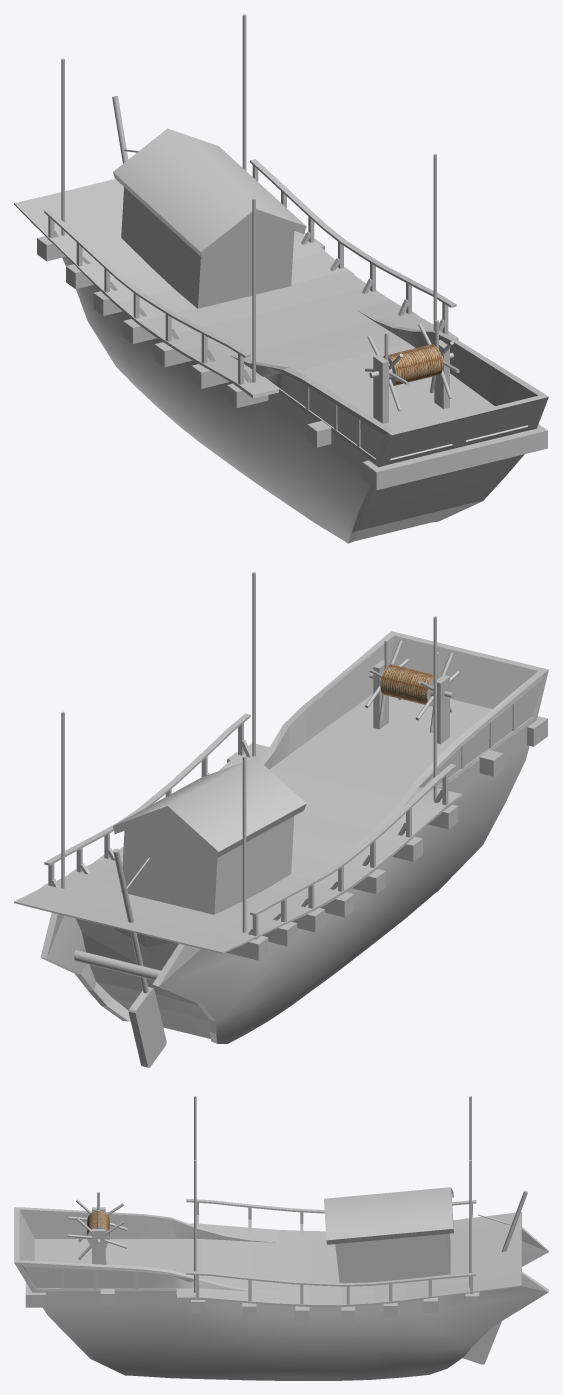
The model's file is 중등백제 무역선.FBX.
3 views of the same model, one above another, from view 1: azimuth 30°, elevation 25°; view 2: azimuth 150°, elevation 25°; view 3: azimuth 270°, elevation 25° (orthographic). The views are drawn at different scales.
Visible parts, largest first — view 1: Box001; view 2: Box001; view 3: Box001.
Part boxes in pixels (left/top/right/bottom): Box001: left=14, top=14, right=548, bottom=543; Box001: left=14, top=572, right=548, bottom=1067; Box001: left=14, top=1096, right=548, bottom=1380.
Size of the model in its own units: 79.91 by 232 by 113.
